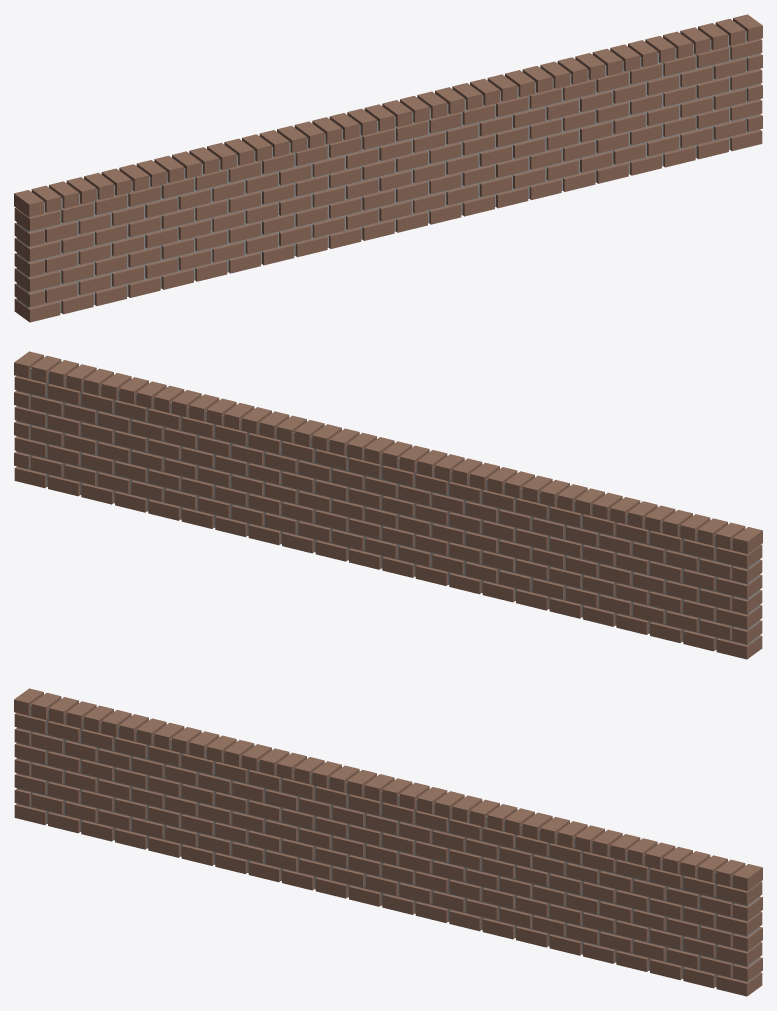
The model's file is AvoidtheHumoidWall.fbx.
3 renders of one model, top to bottom at view 1: azimuth 30°, elevation 25°; view 2: azimuth 150°, elevation 25°; view 3: azimuth 330°, elevation 25°, orthographic.
Visible parts, largest first — view 1: Full Layer, Mid Layer, Top Layer, Mortar, Edge Layer1, Edge Layer2; view 2: Full Layer, Mid Layer, Top Layer, Mortar, Edge Layer1, Edge Layer2; view 3: Full Layer, Mid Layer, Top Layer, Mortar, Edge Layer2, Edge Layer1.
Boxes of the visible parts, left/top/right/bottom form: Full Layer: left=14, top=39, right=762, bottom=322; Mid Layer: left=45, top=58, right=745, bottom=303; Top Layer: left=14, top=14, right=762, bottom=217; Mortar: left=17, top=31, right=759, bottom=313; Edge Layer1: left=14, top=222, right=44, bottom=307; Edge Layer2: left=746, top=53, right=762, bottom=131; Full Layer: left=14, top=376, right=762, bottom=659; Mid Layer: left=31, top=395, right=731, bottom=640; Top Layer: left=14, top=351, right=762, bottom=554; Mortar: left=17, top=368, right=759, bottom=650; Edge Layer1: left=732, top=559, right=762, bottom=644; Edge Layer2: left=14, top=390, right=30, bottom=468; Full Layer: left=14, top=713, right=762, bottom=996; Mid Layer: left=31, top=732, right=732, bottom=977; Top Layer: left=14, top=688, right=762, bottom=891; Mortar: left=17, top=705, right=759, bottom=987; Edge Layer2: left=733, top=896, right=762, bottom=981; Edge Layer1: left=14, top=728, right=30, bottom=806.
Size of the model in its own units: 1741 by 268 by 62.75.
